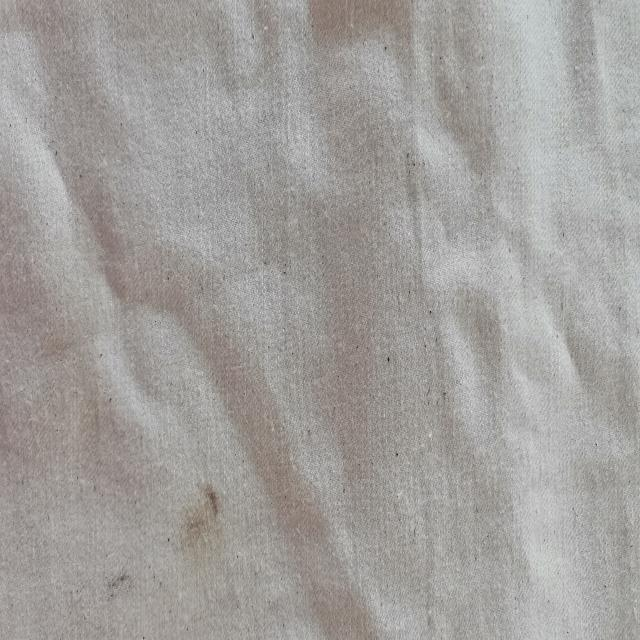taaaches: (172, 479, 230, 569), (102, 552, 134, 617)
